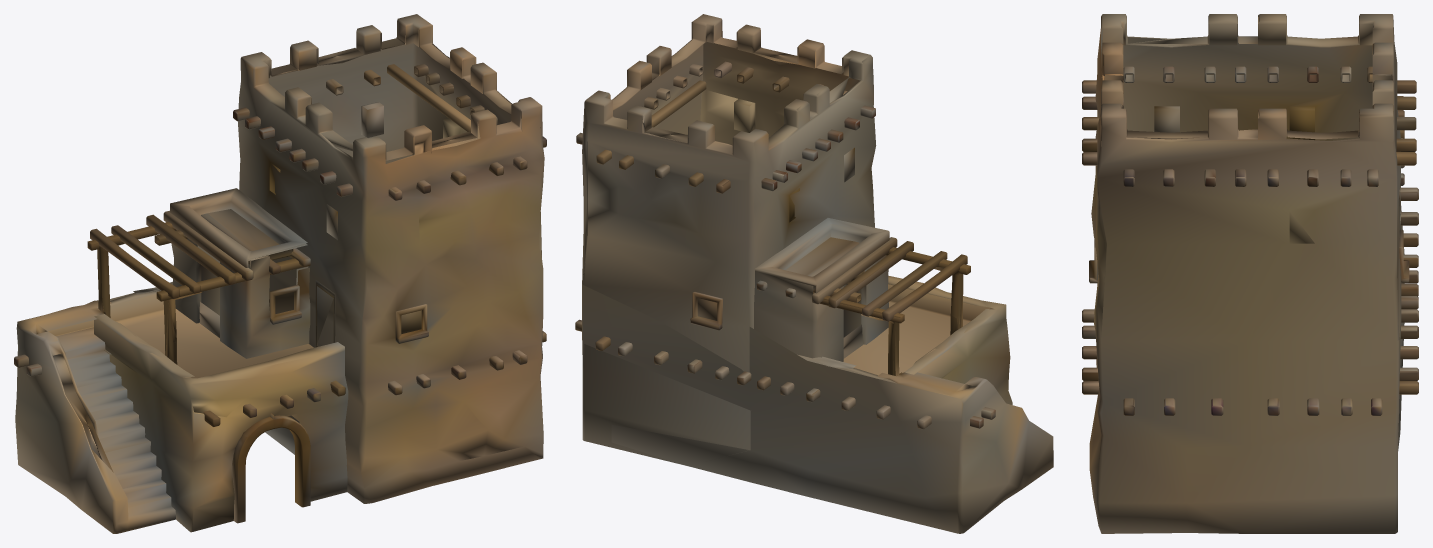
File: building-9.fbx
3 views of the same model, side by side, from view 1: azimuth 30°, elevation 25°; view 2: azimuth 150°, elevation 25°; view 3: azimuth 270°, elevation 25° (orthographic). The views are drawn at different scales.
Visible parts, largest first — view 1: Untitled_Desert_themed_tower_with_stairs_and_windows_Hunyuan; view 2: Untitled_Desert_themed_tower_with_stairs_and_windows_Hunyuan; view 3: Untitled_Desert_themed_tower_with_stairs_and_windows_Hunyuan.
Boxes of the visible parts, bbox=[...] form: Untitled_Desert_themed_tower_with_stairs_and_windows_Hunyuan: bbox=[14, 14, 546, 533]; Untitled_Desert_themed_tower_with_stairs_and_windows_Hunyuan: bbox=[575, 14, 1053, 533]; Untitled_Desert_themed_tower_with_stairs_and_windows_Hunyuan: bbox=[1082, 14, 1418, 533].
Size of the model in its own units: 4940 by 3957 by 2884.
